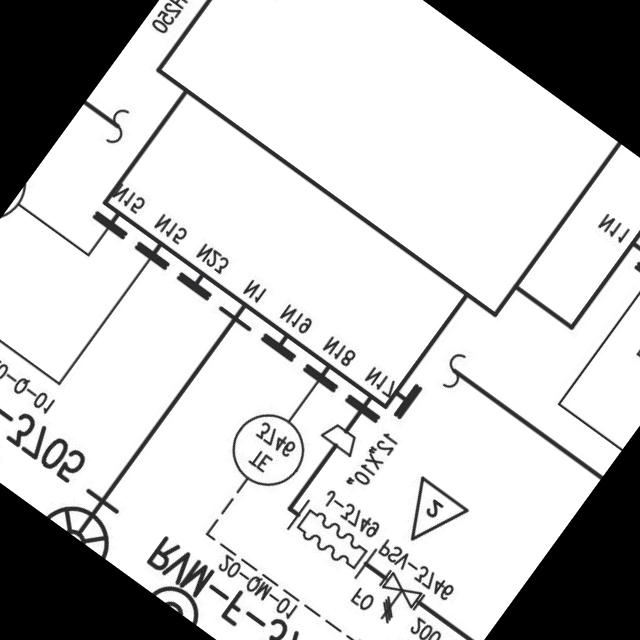EJ: (279, 494, 379, 584)
RPV: (360, 562, 436, 638)
